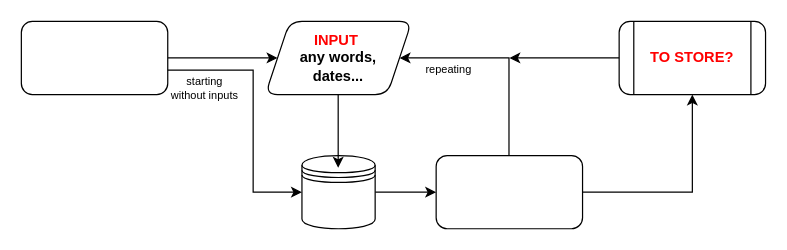
This 787x250 diagram has some shape labels left out. The shapes that lost their labels are listed below. From the top down, each one's centre as x and y in pixels, then its label:
At (94,57): "START title page loaded".
At (509,191): "END showing the movie".
